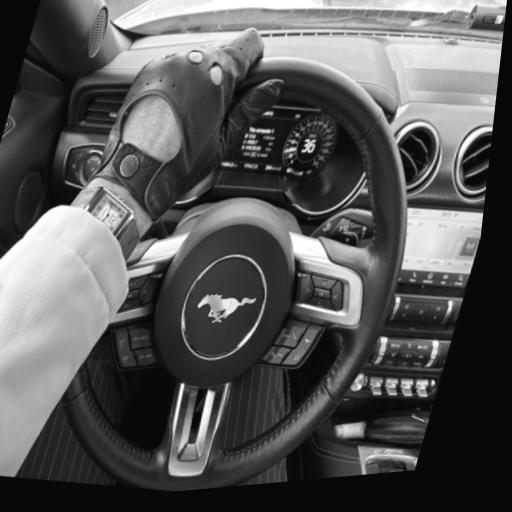Hands-on-the-Wheel: (38, 0, 313, 288)
